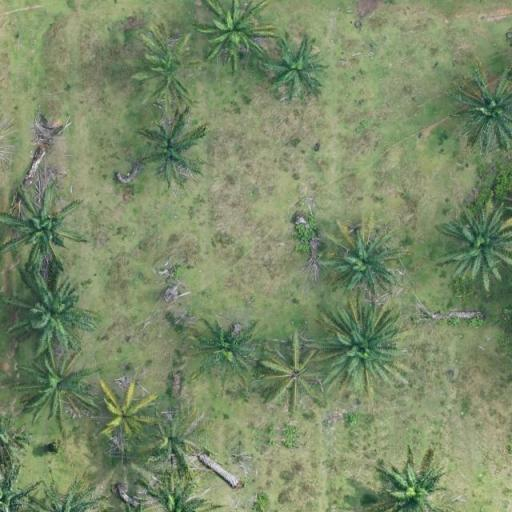Ganoderma: (336, 232, 393, 285), (102, 392, 148, 436), (275, 353, 320, 395)
